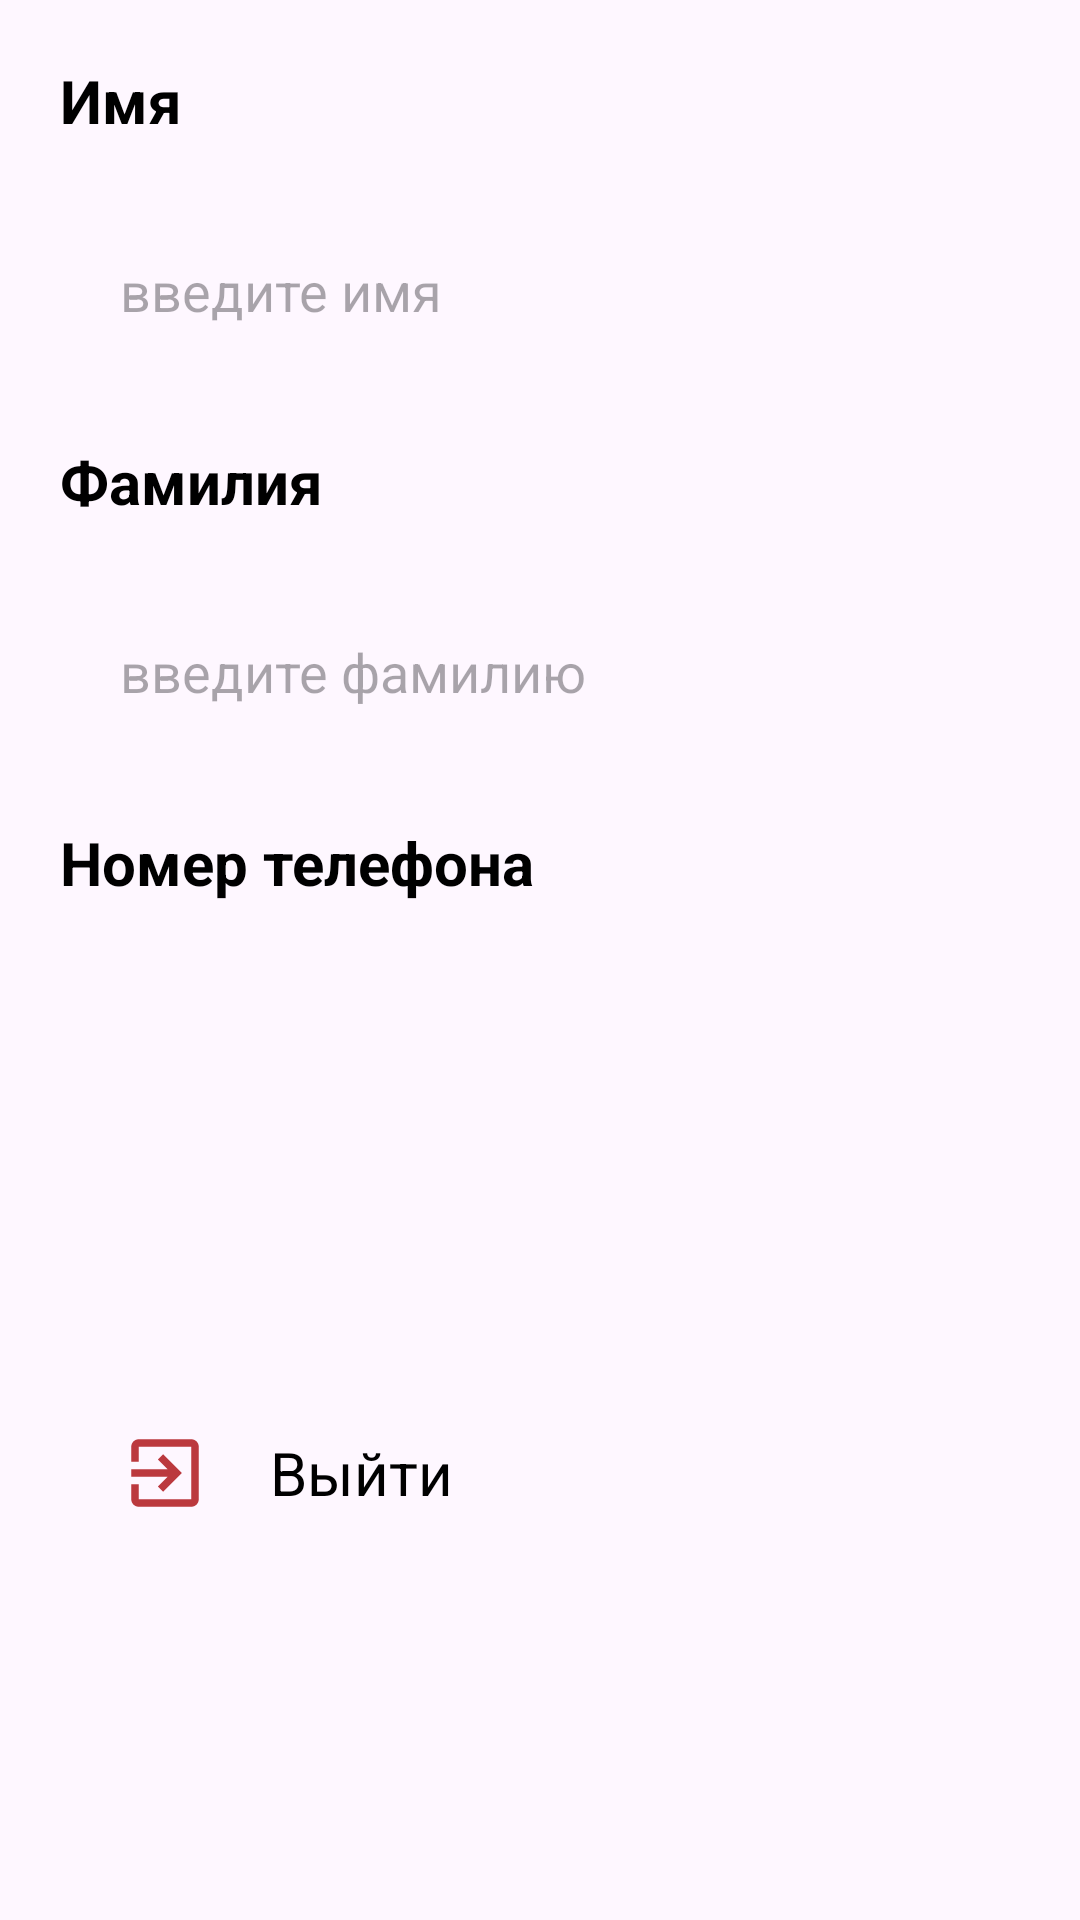

Icons on this 1080px x 1920px Android screen, each with the point to tap as (x,y):
exit to app: (165,1473)
